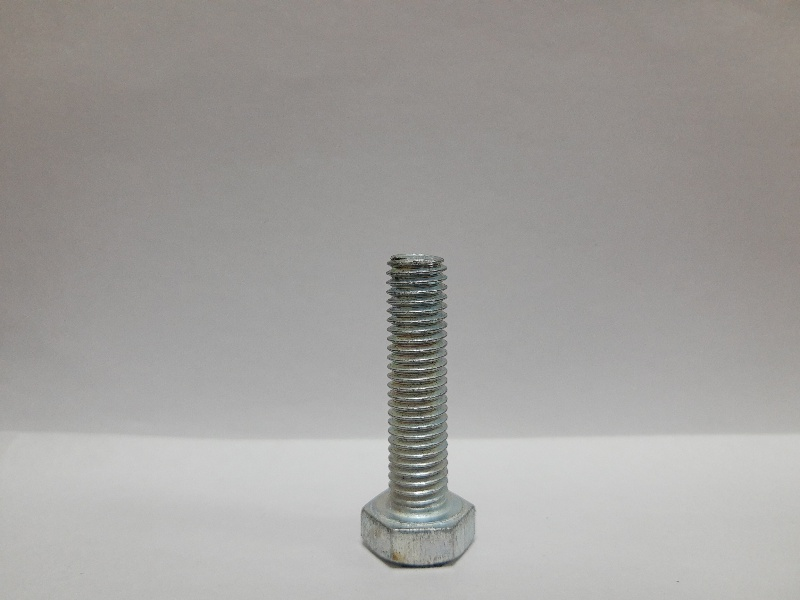pf: (361, 251, 480, 576)
